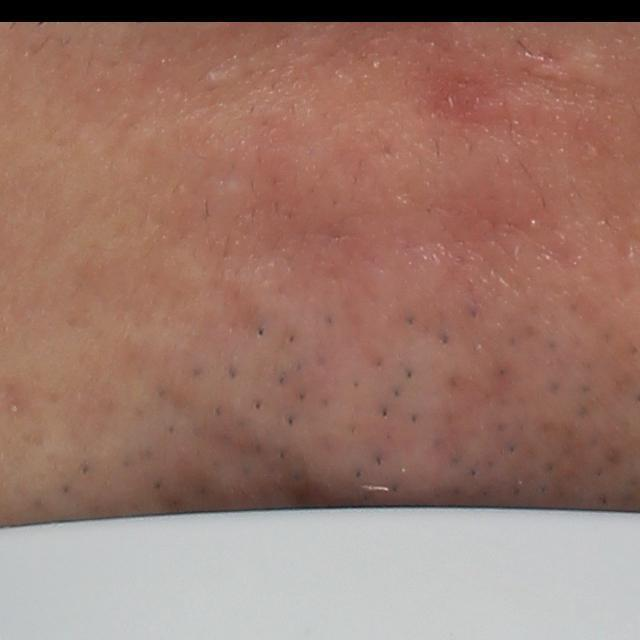hypertrophic_scar: (524, 35, 620, 88)
